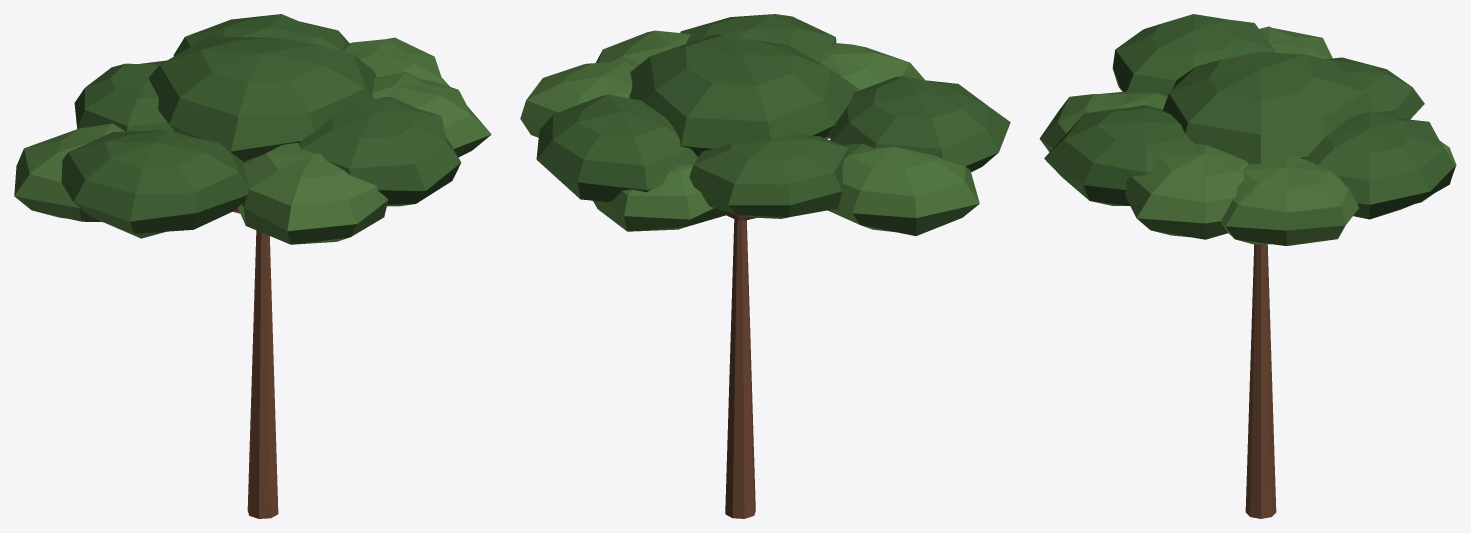
Rendered from tree_stone_pine_medium.glb.
3 renders of one model, left to right at view 1: azimuth 30°, elevation 25°; view 2: azimuth 150°, elevation 25°; view 3: azimuth 270°, elevation 25°, orthographic. The views are drawn at different scales.
Parts seen in each view (by area): view 1: tree_stone_pine_medium; view 2: tree_stone_pine_medium; view 3: tree_stone_pine_medium.
Part boxes in pixels (x1,y1,x2,y2): tree_stone_pine_medium: [14, 14, 491, 518]; tree_stone_pine_medium: [520, 14, 1010, 518]; tree_stone_pine_medium: [1039, 14, 1456, 518].
Bounding box in the file's own units: 8.88 × 9.02 × 7.69.
